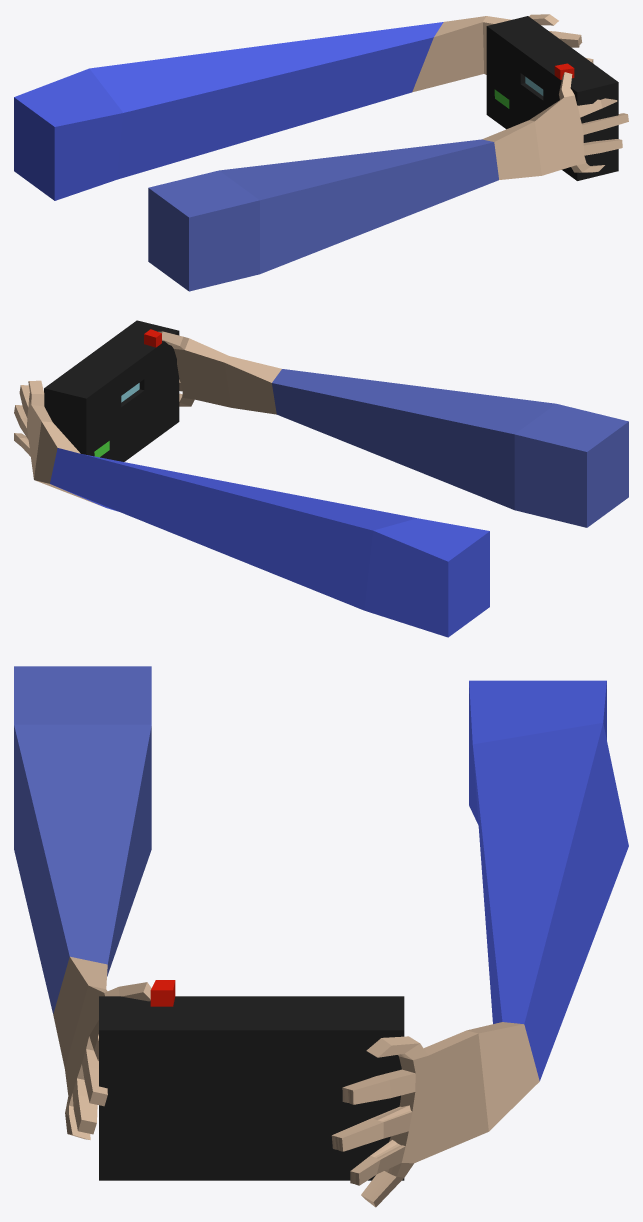
The model's file is kol.fbx.
3 views of the same model, one above another, from view 1: azimuth 30°, elevation 25°; view 2: azimuth 150°, elevation 25°; view 3: azimuth 270°, elevation 25° (orthographic). The views are drawn at different scales.
Visible parts, largest first — view 1: Cube.001; view 2: Cube.001; view 3: Cube.001.
Part boxes in pixels (x1=…): Cube.001: x1=14, y1=14, x2=628, y2=291; Cube.001: x1=14, y1=320, x2=628, y2=637; Cube.001: x1=14, y1=666, x2=628, y2=1207.
Size of the model in its own units: 1420 by 296 by 893.
